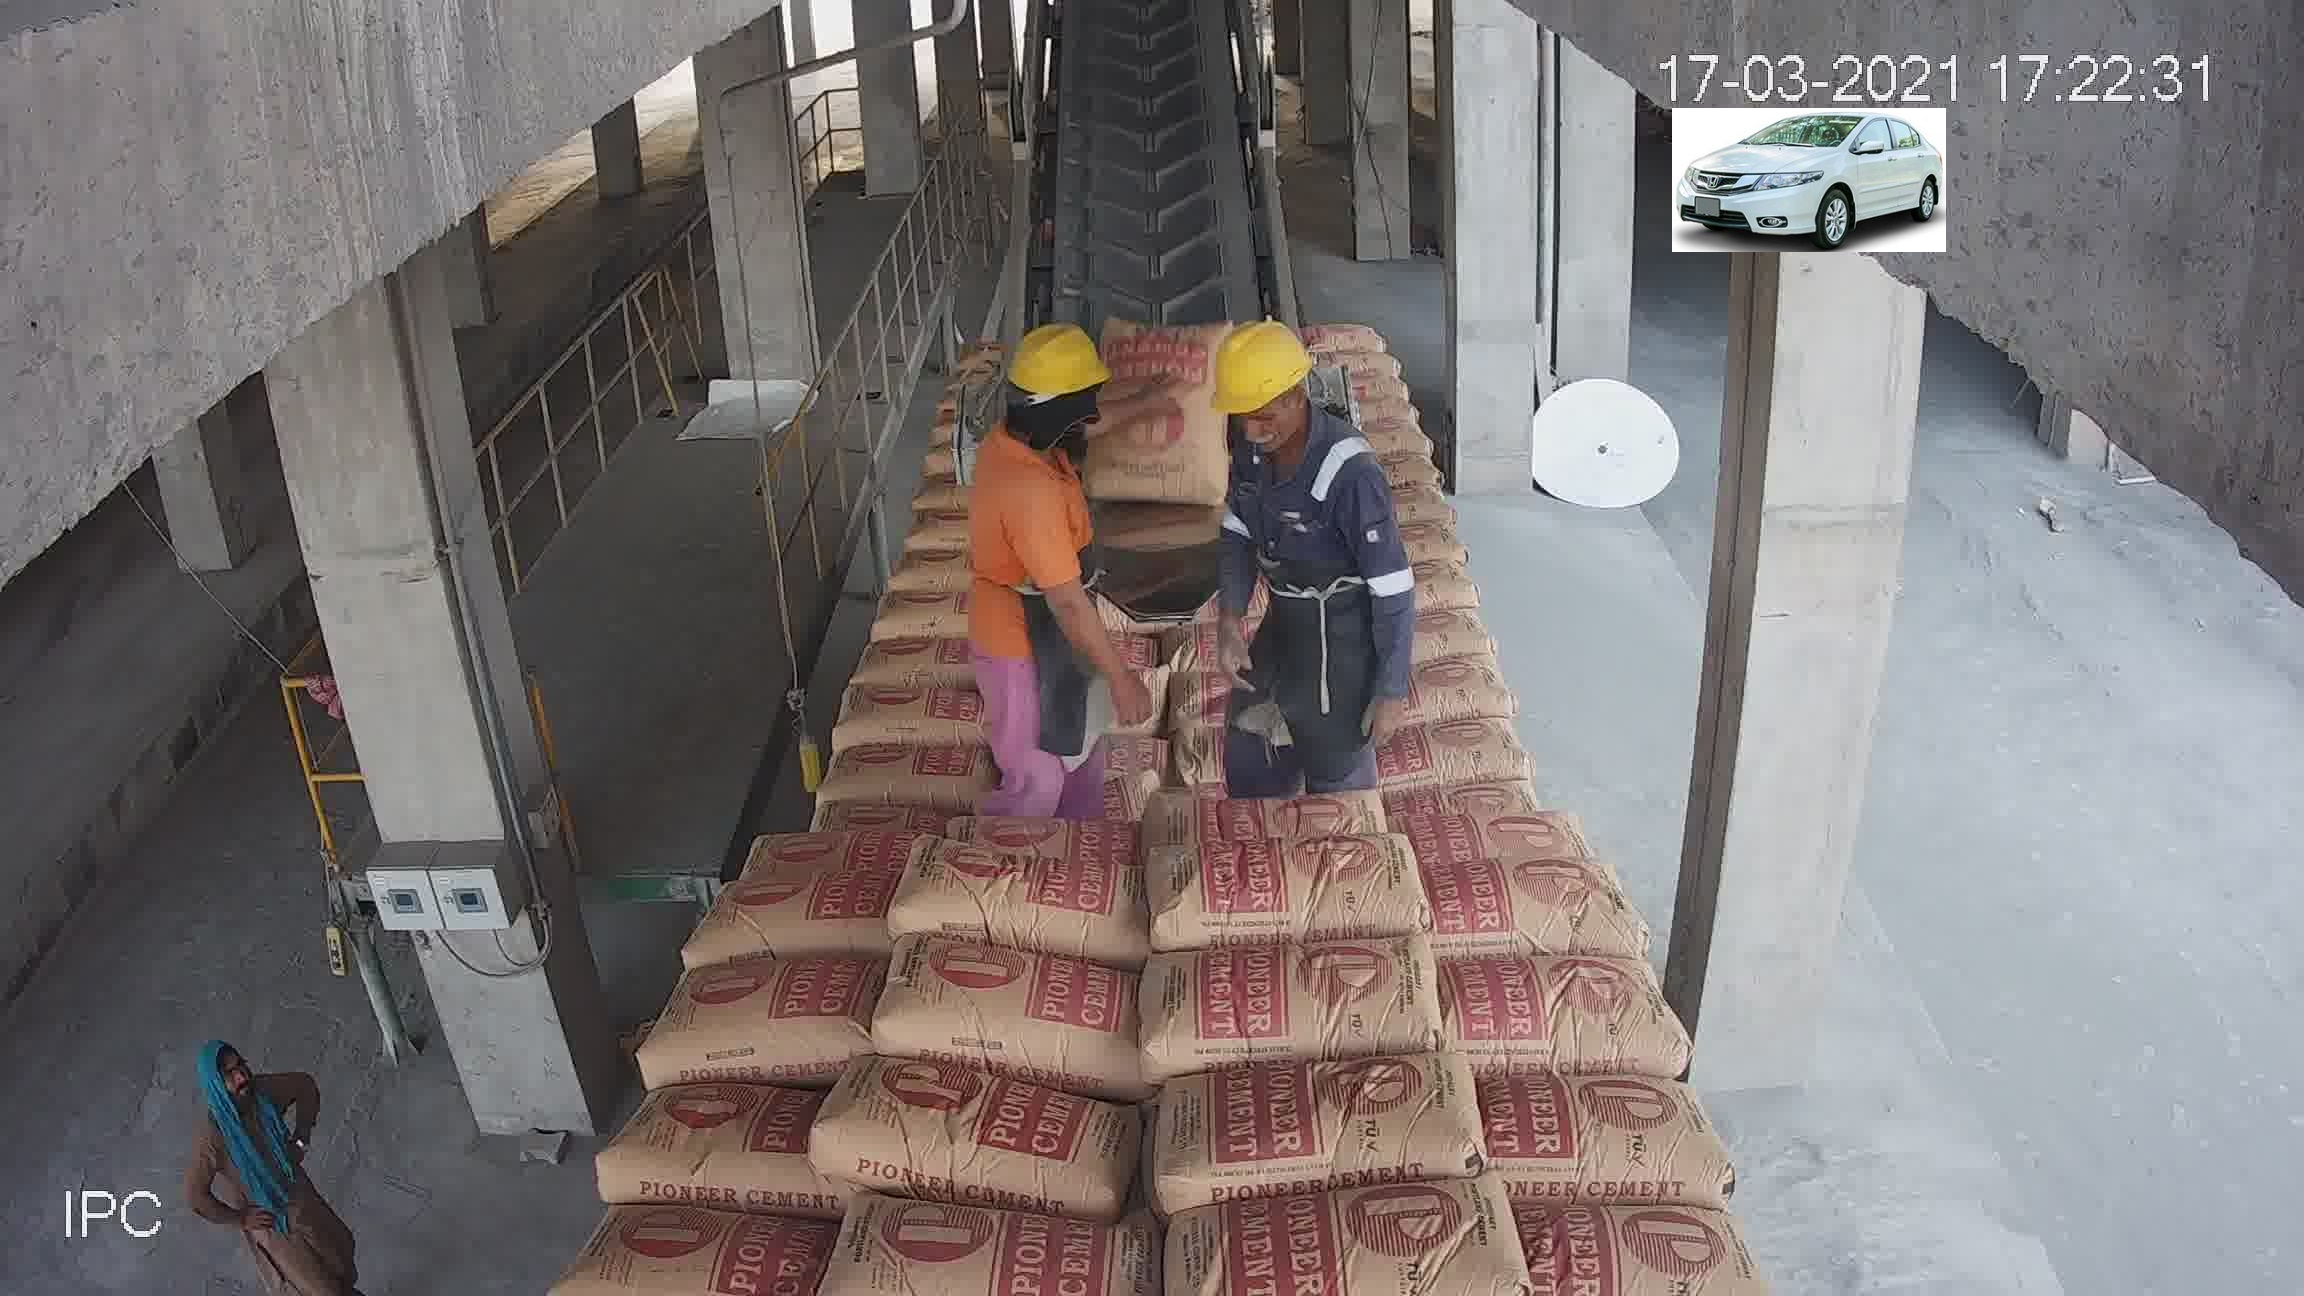bag_h: (1161, 1043, 1491, 1211), (1166, 1154, 1514, 1296), (1158, 929, 1448, 1071), (1127, 720, 1416, 856), (1427, 938, 1692, 1081), (804, 1082, 1120, 1201), (1136, 813, 1427, 937), (584, 1079, 831, 1204), (1484, 1076, 1715, 1206), (631, 957, 866, 1082), (861, 964, 1147, 1062), (820, 1218, 1171, 1296), (1506, 1187, 1741, 1296), (660, 869, 881, 978), (877, 862, 1128, 957), (1432, 850, 1658, 953), (1141, 657, 1372, 752), (718, 772, 915, 873), (576, 1211, 824, 1285), (911, 767, 1139, 843), (1426, 761, 1605, 855), (930, 687, 1120, 763), (744, 693, 900, 782), (850, 616, 1000, 687), (850, 581, 1006, 649), (1380, 676, 1541, 741), (869, 538, 1002, 593), (913, 491, 1000, 557), (1179, 563, 1274, 619), (1188, 527, 1264, 570)
bag_v: (1114, 286, 1214, 445), (1093, 25, 1179, 76)
belt: (995, 22, 1263, 487)
